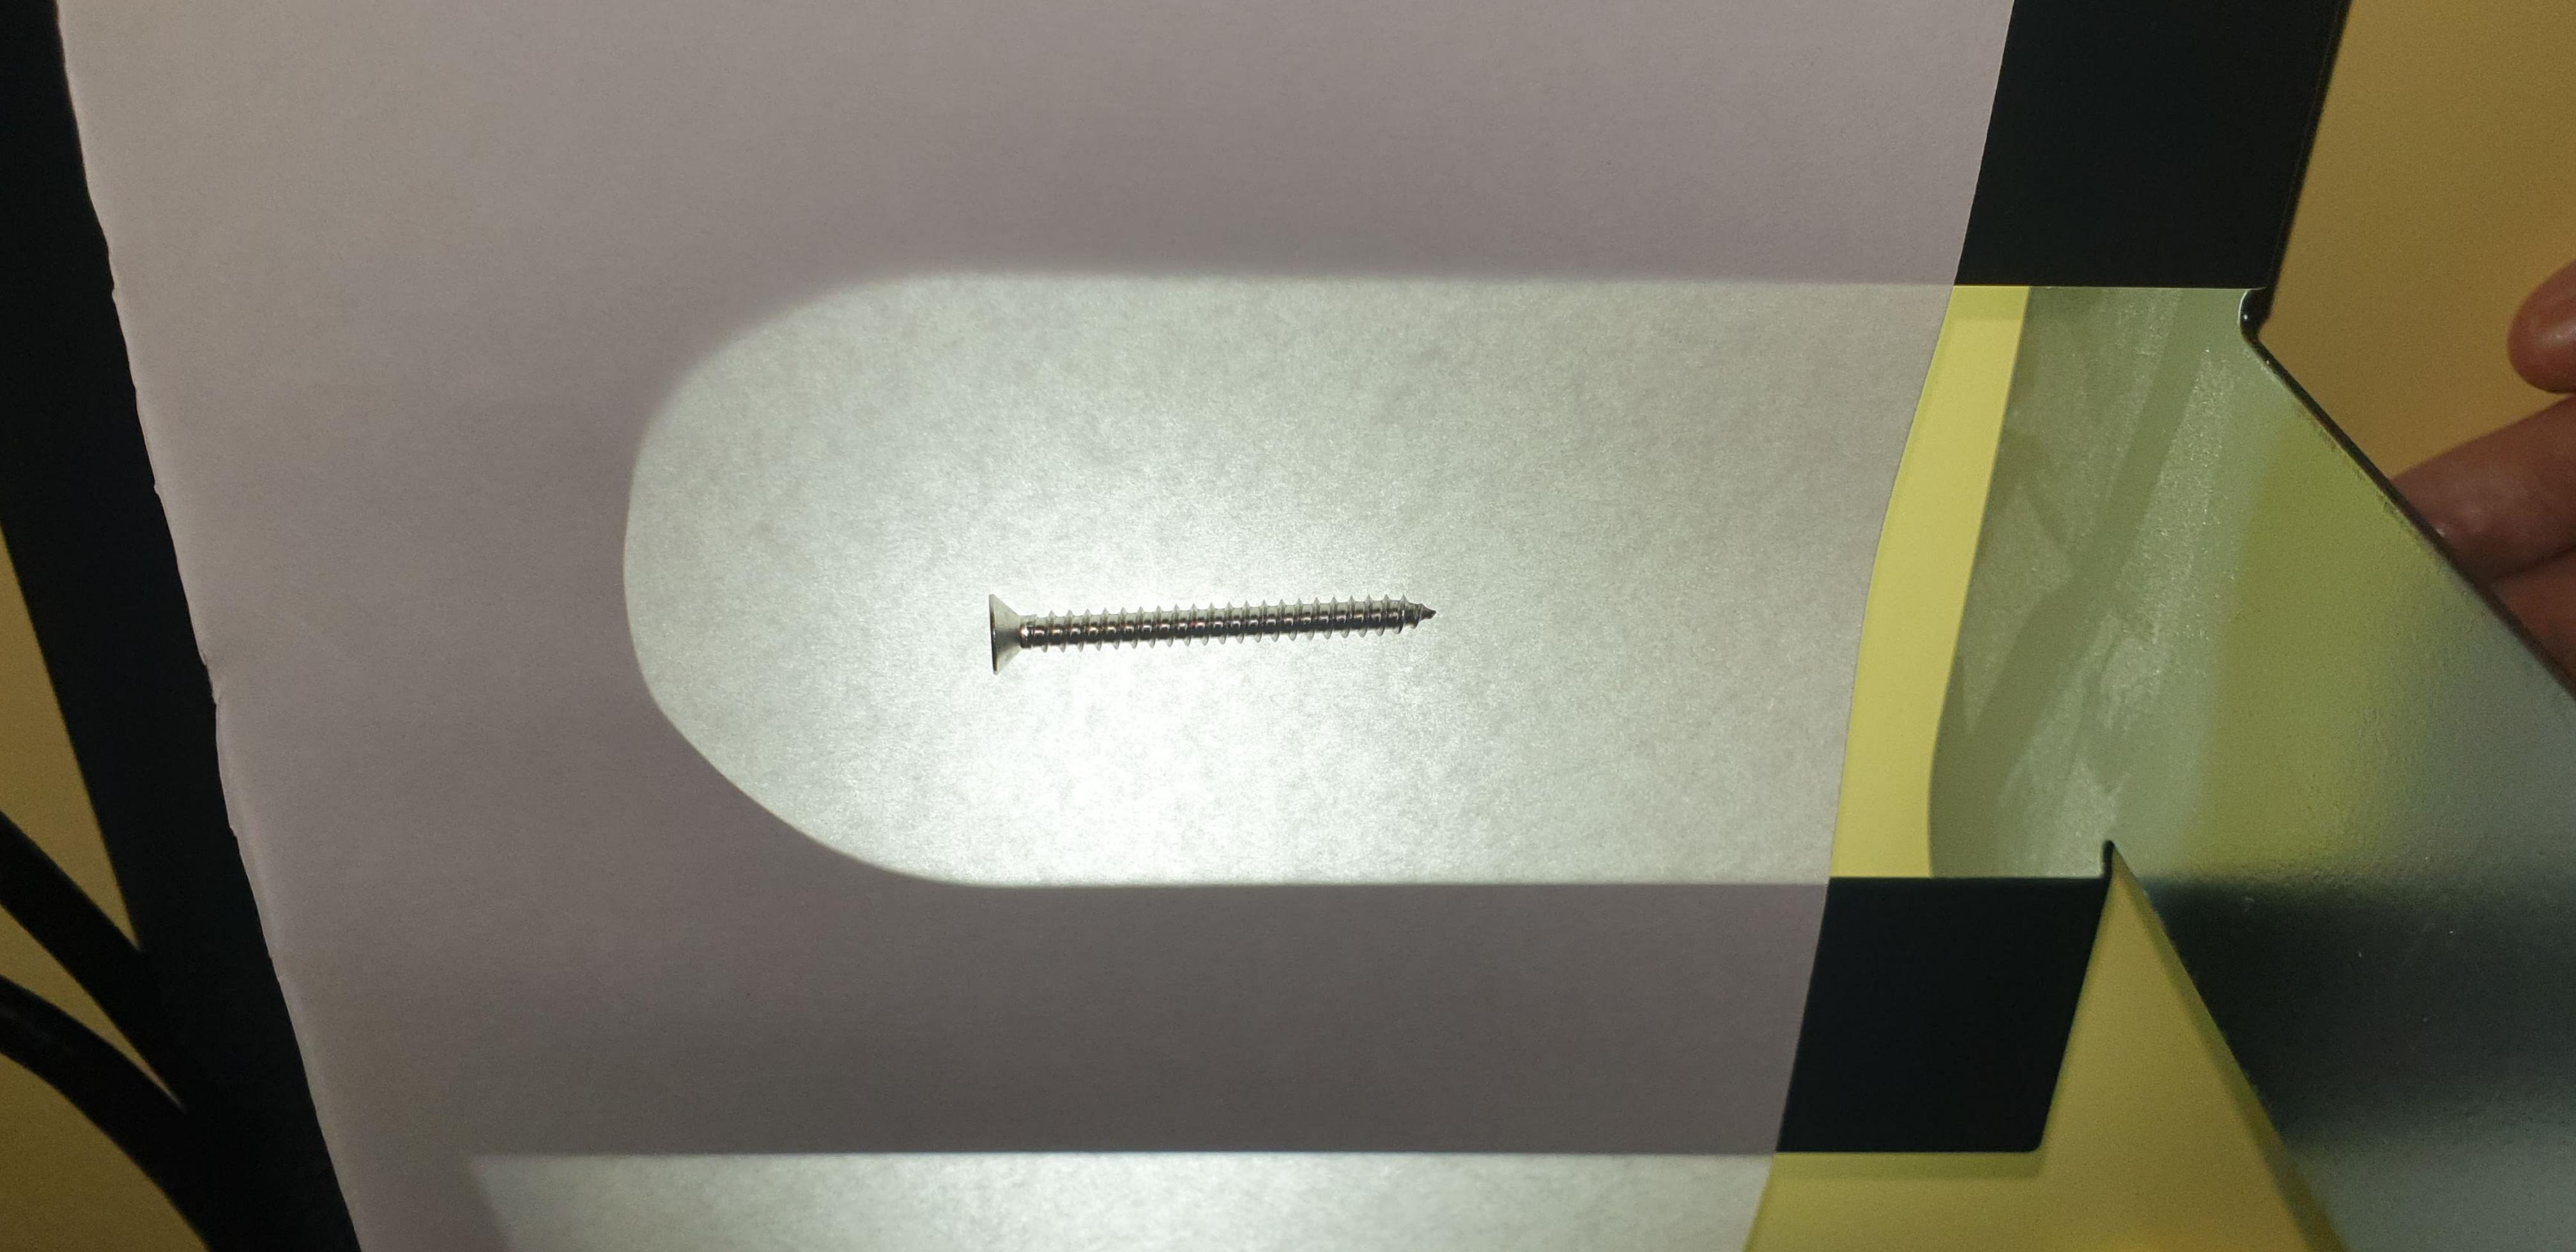fastener: (936, 547, 1488, 698)
